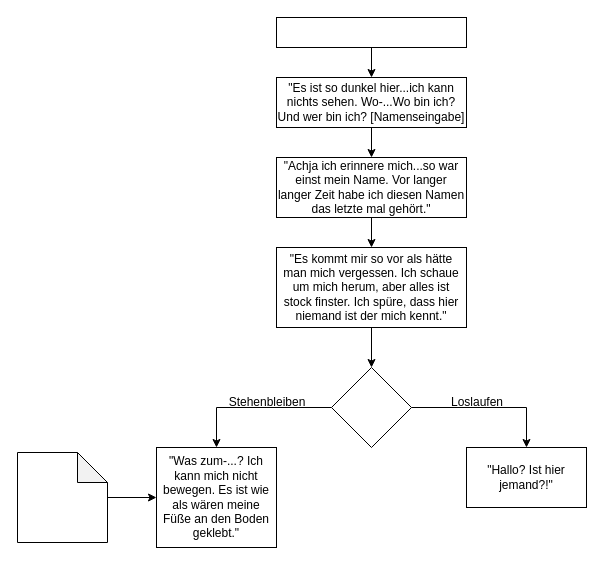
This 604x565 diagram has some shape labels left out. The shapes that lost their labels are listed below. From the top down, each one's centre as x and y in pixels, then its label:
At point 371,32: "I can't stop crying in my dreams...".
At point 371,407: "Was tun?".
At point 62,497: "Protagonist kniet auf den Boden, machtlos".
